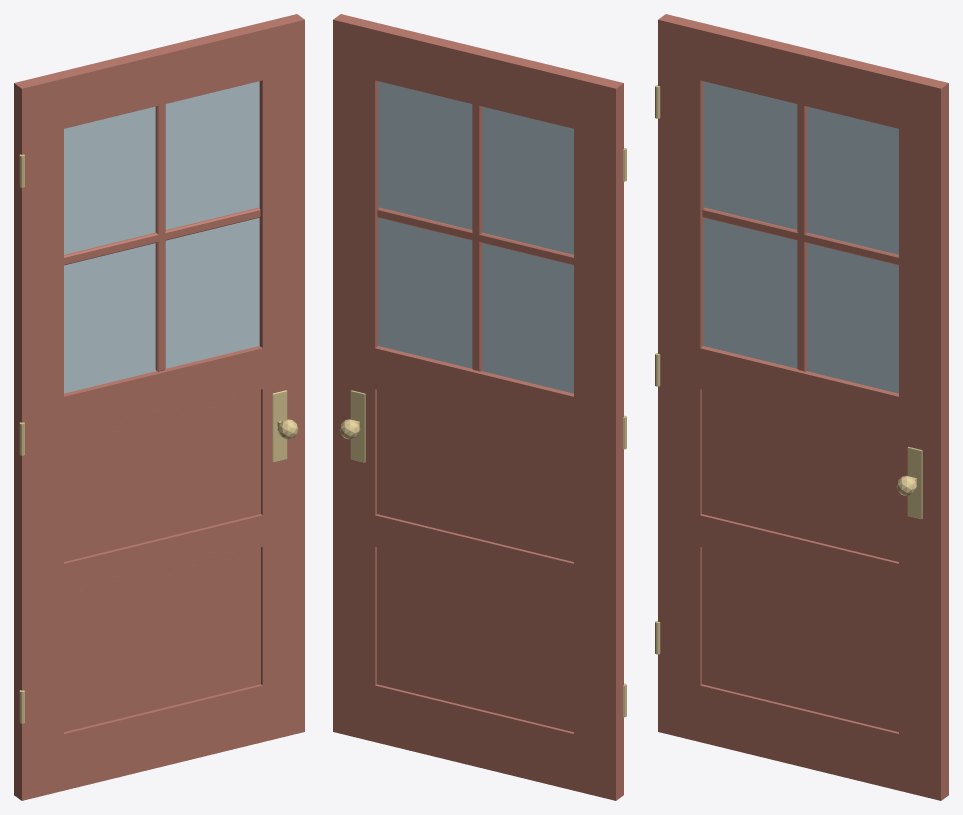
Rendered from door_leaf_back.glb.
3 renders of one model, left to right at view 1: azimuth 30°, elevation 25°; view 2: azimuth 150°, elevation 25°; view 3: azimuth 330°, elevation 25°, orthographic.
Visible parts, largest first — view 1: door_leaf_back_door, door_leaf_back_glass, door_leaf_back_brass; view 2: door_leaf_back_door, door_leaf_back_glass, door_leaf_back_brass; view 3: door_leaf_back_door, door_leaf_back_glass, door_leaf_back_brass.
Boxes of the visible parts, left/top/right/bottom form: door_leaf_back_door: left=14, top=14, right=304, bottom=800; door_leaf_back_glass: left=64, top=81, right=259, bottom=393; door_leaf_back_brass: left=19, top=154, right=298, bottom=723; door_leaf_back_door: left=333, top=14, right=623, bottom=800; door_leaf_back_glass: left=378, top=81, right=573, bottom=393; door_leaf_back_brass: left=339, top=148, right=626, bottom=717; door_leaf_back_door: left=658, top=14, right=948, bottom=800; door_leaf_back_glass: left=703, top=81, right=898, bottom=393; door_leaf_back_brass: left=655, top=85, right=922, bottom=654.
Bounding box in the file's own units: 0.948 × 2.26 × 0.205.
